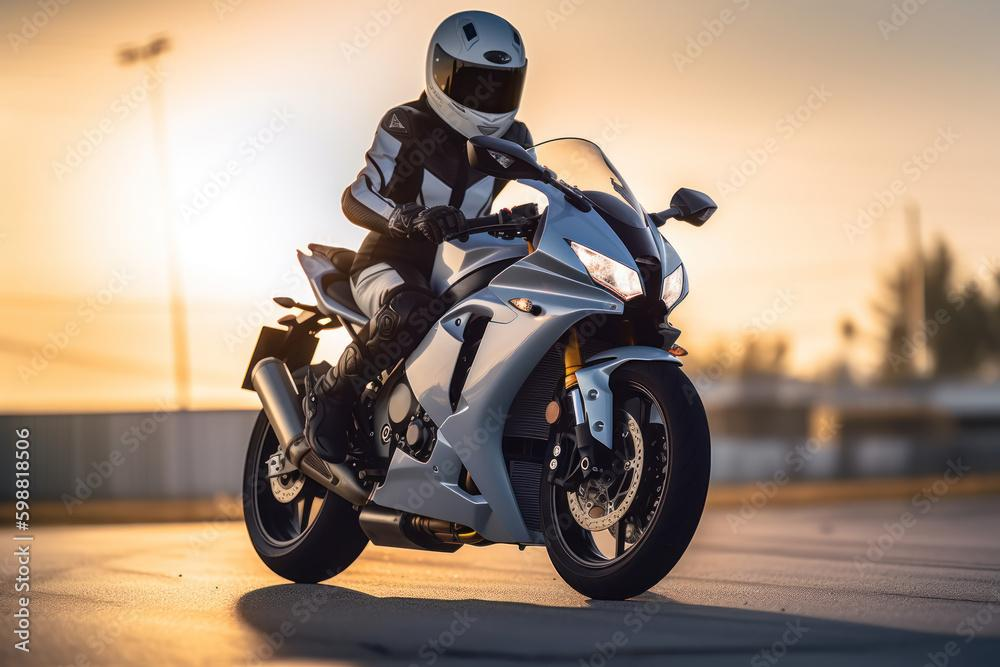helmet: (424, 9, 529, 148)
